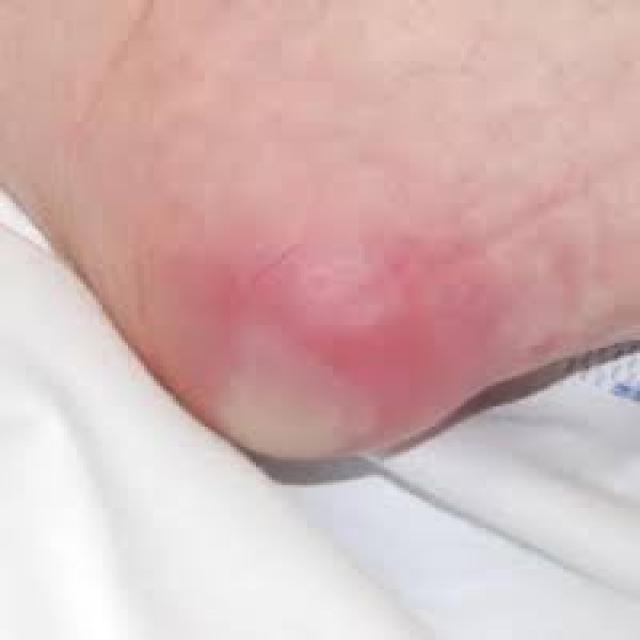stage-1: (196, 233, 497, 439)
